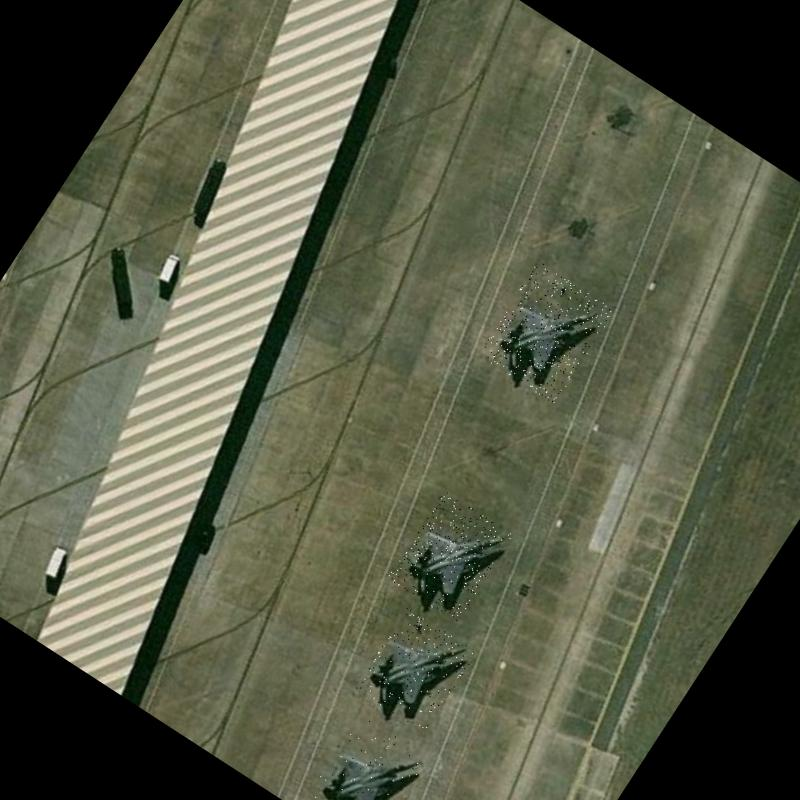A13: (477, 261, 615, 405), (386, 490, 514, 624), (355, 607, 477, 734), (302, 713, 431, 800)
